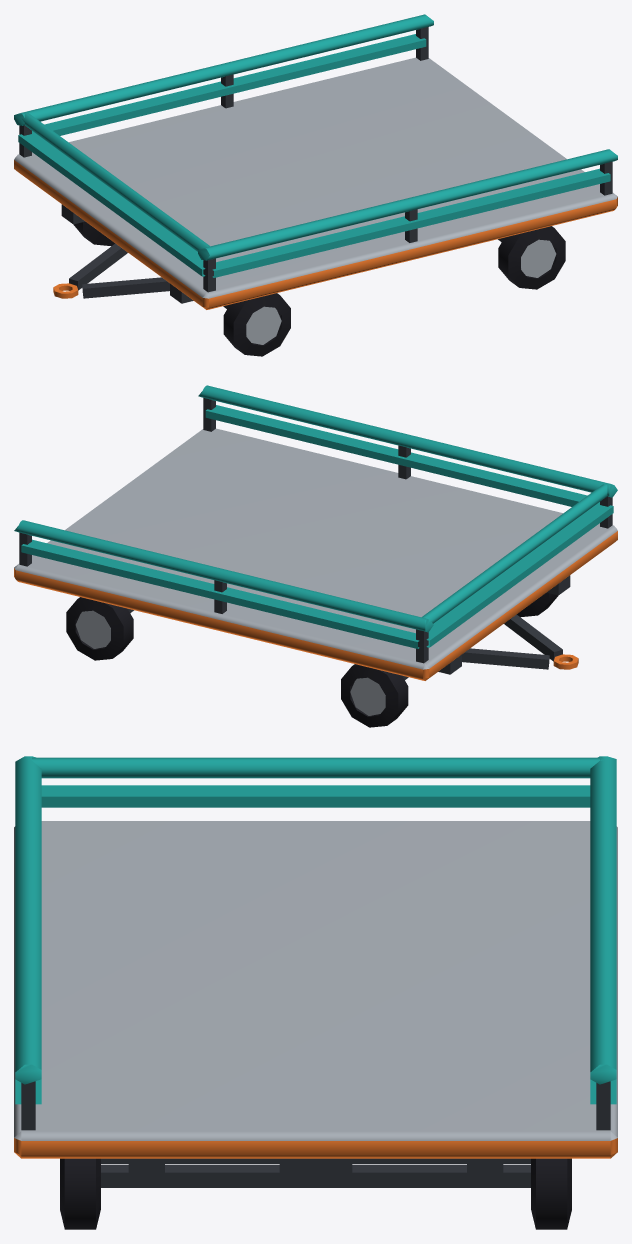
The model's file is CarroEquipaje.fbx.
3 views of the same model, one above another, from view 1: azimuth 30°, elevation 25°; view 2: azimuth 150°, elevation 25°; view 3: azimuth 270°, elevation 25° (orthographic). The views are drawn at different scales.
Visible parts, largest first — view 1: CarroEquipaje; view 2: CarroEquipaje; view 3: CarroEquipaje.
Boxes of the visible parts, x1,y1,x2,y2 form: CarroEquipaje: (14,14,617,356); CarroEquipaje: (14,385,617,727); CarroEquipaje: (14,756,617,1229).
Bounding box in the file's own units: 7 × 1.9 × 5.
Materials: 1 (1 with a texture image).
